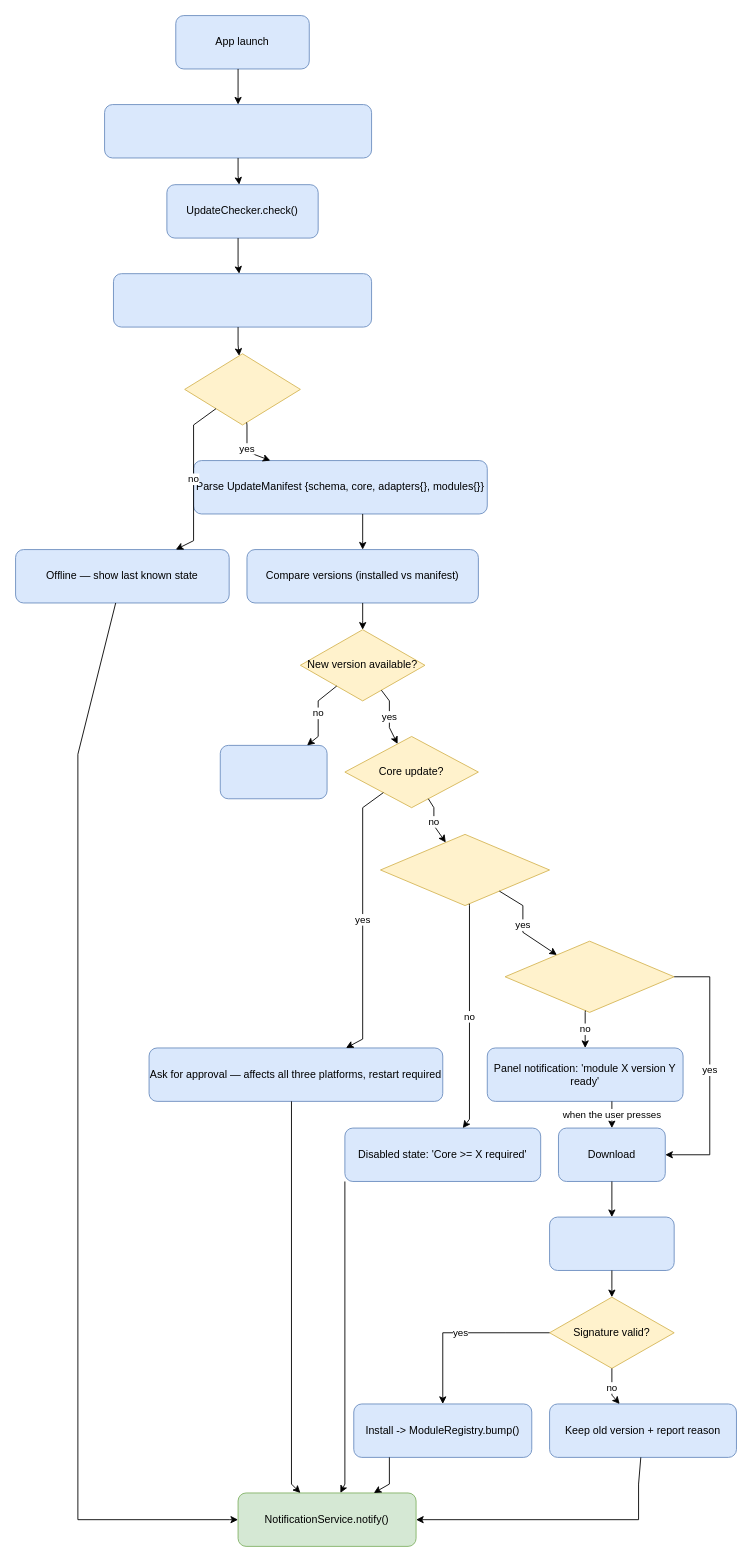
The diagram is 752 pixels wide and 1562 high, and some of its shapes have lost their labels. The shapes that lost their labels are listed below. From the top down, each one's centre as x and y in pixels, then its label:
the point at 238,131: ModuleRegistry.load() — installed modules + versions
the point at 242,300: GET raw.githubusercontent.com/.../updates.json
the point at 242,389: Reachable?
the point at 273,771: Stay silent
the point at 465,869: Module compatible with core version?
the point at 589,976: Auto-update enabled?
the point at 611,1243: Verify signature
